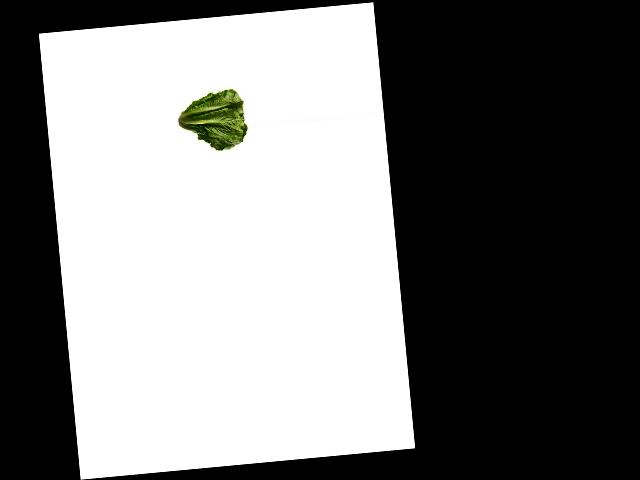lettuce: (172, 90, 250, 156)
